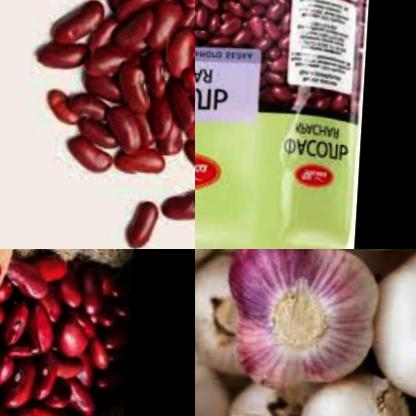fasol: (17, 0, 195, 249), (0, 249, 125, 416), (195, 0, 305, 113), (283, 77, 365, 119)
garlic: (220, 249, 382, 392), (195, 249, 273, 383), (361, 249, 416, 393), (297, 360, 416, 416), (195, 391, 311, 416)
